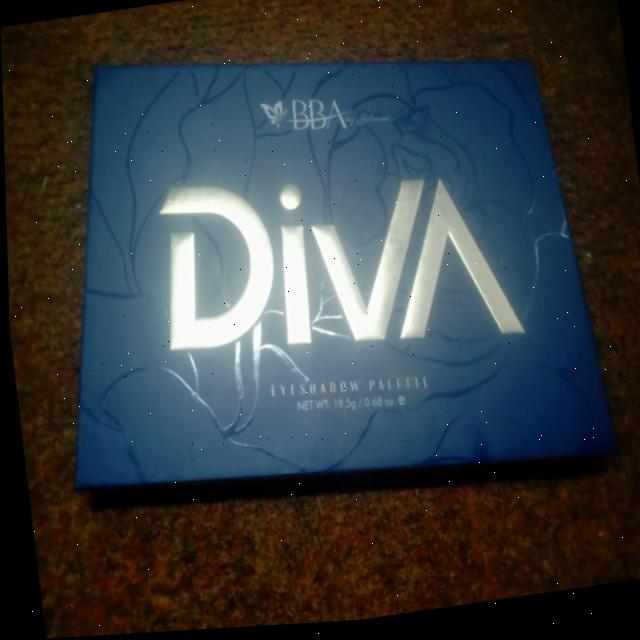makeup: (18, 0, 629, 566)
